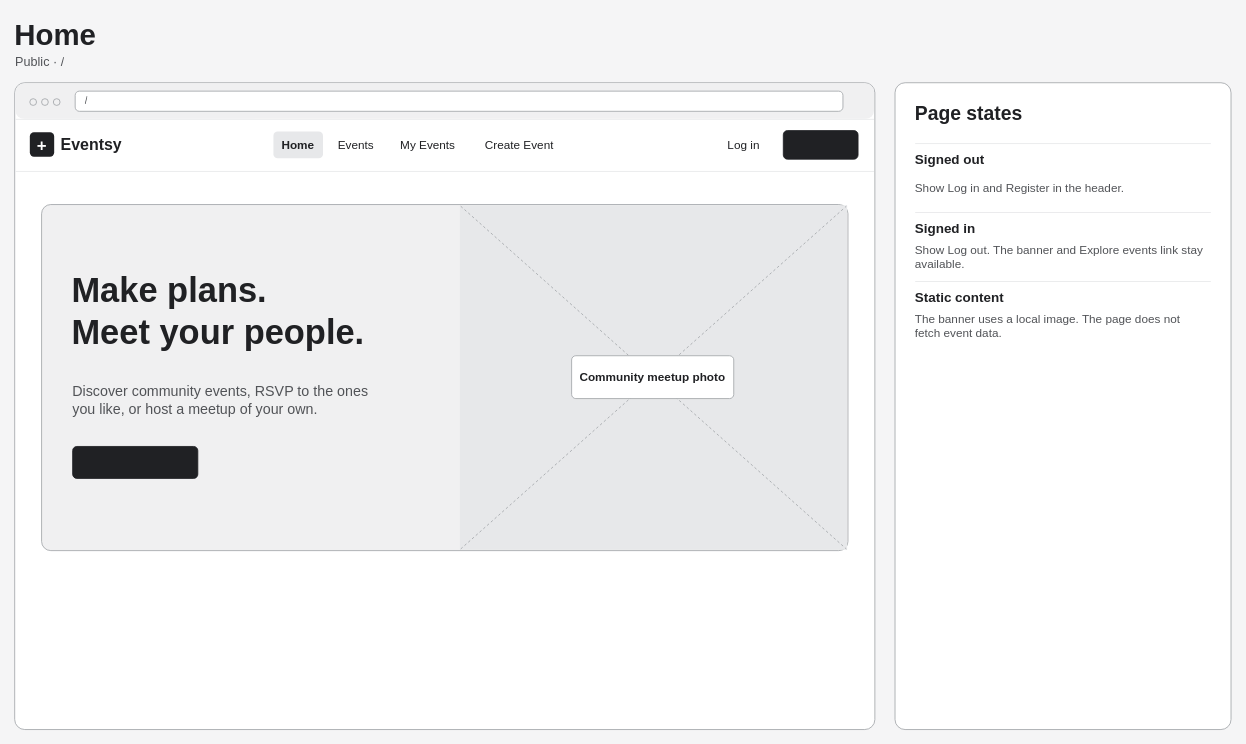
Image size: 1246x744. Some labels were removed from this diagram. Here are the shapes that lost their labels. From the top down, the centre of each, then its label:
At (x=820, y=144): "Register".
At (x=135, y=462): "Explore events".
